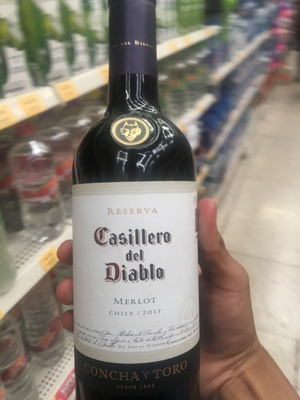casillero del diablo merlot: (73, 13, 220, 400)
